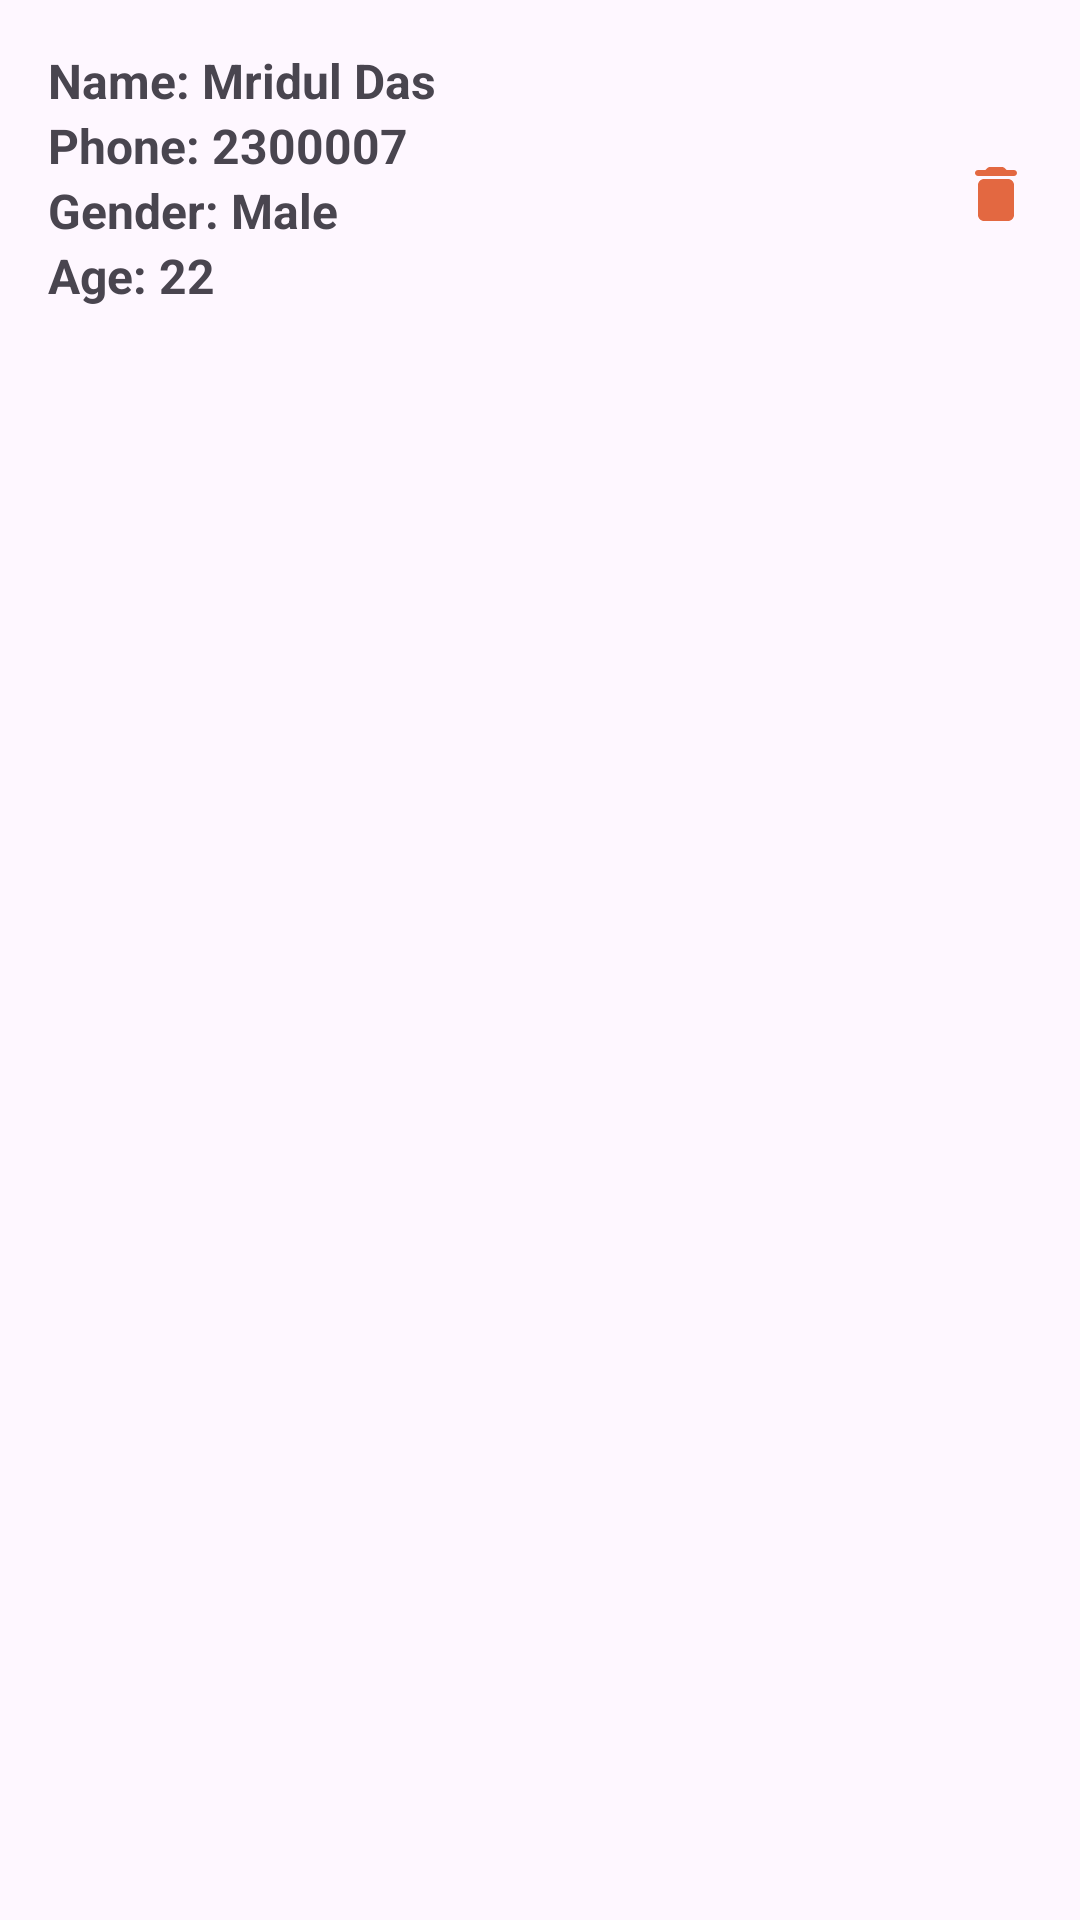

Icon click points for this 1080 x 1920 phone screenshot, format [x,y]:
delete: [996,194]
